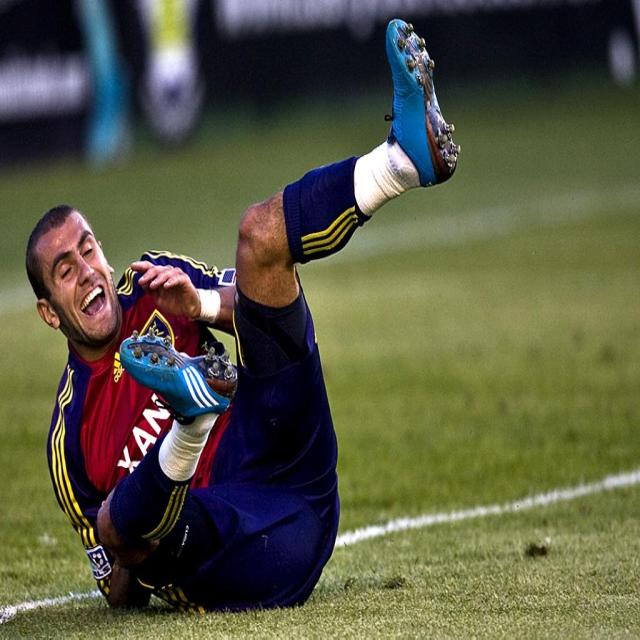Face: (29, 208, 122, 347)
